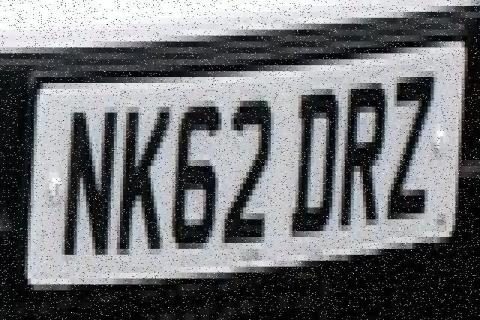LicensePlate: (19, 32, 471, 295)
